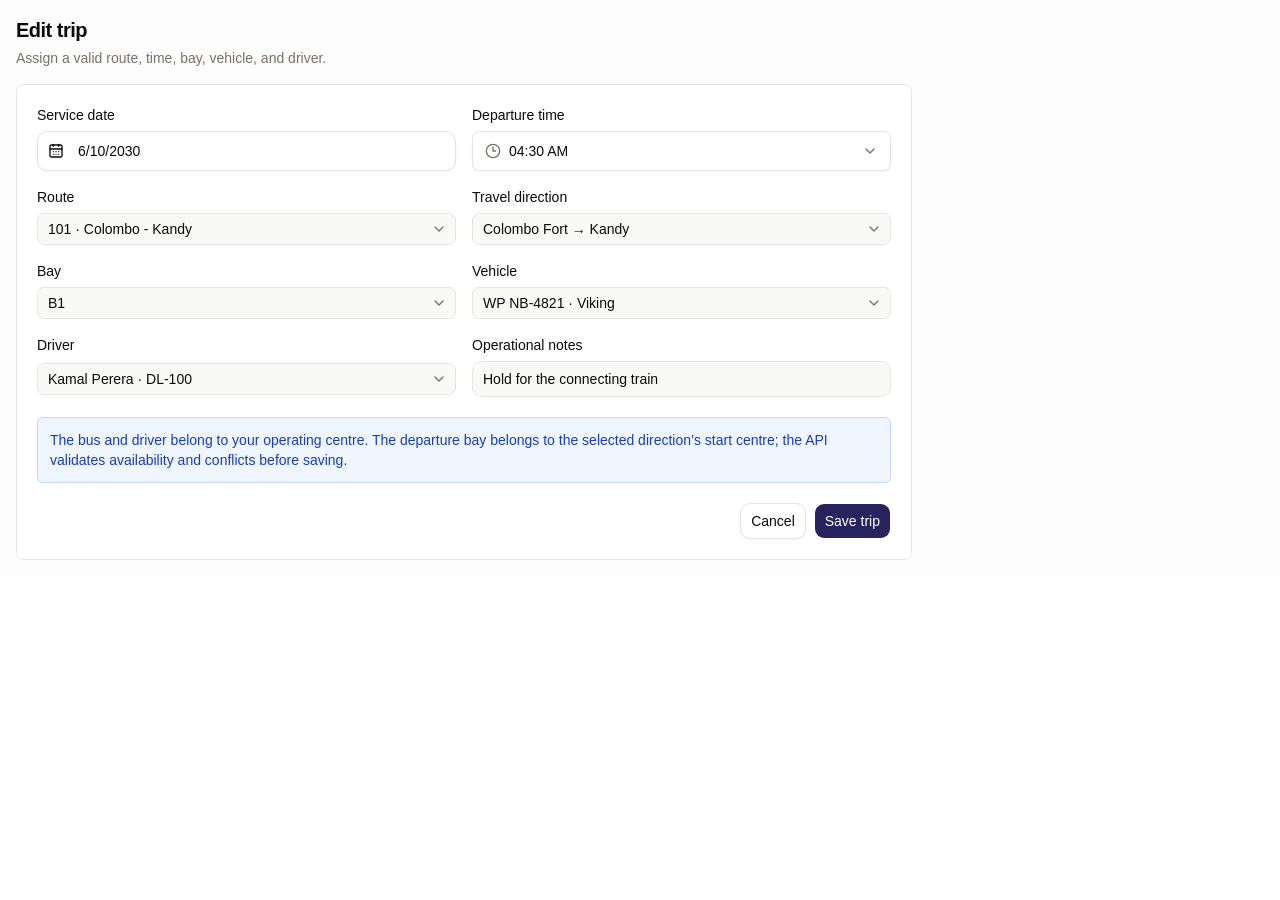
Test: TripFormPage: edit › shows the API message and stays on the form when the API refuses the change
The image size is (1280, 900).
Expected: the heading "Edit trip" is shown, [16, 19, 87, 41]
Step 1. Click the button "Save trip" → (852, 521), box [814, 503, 891, 539]
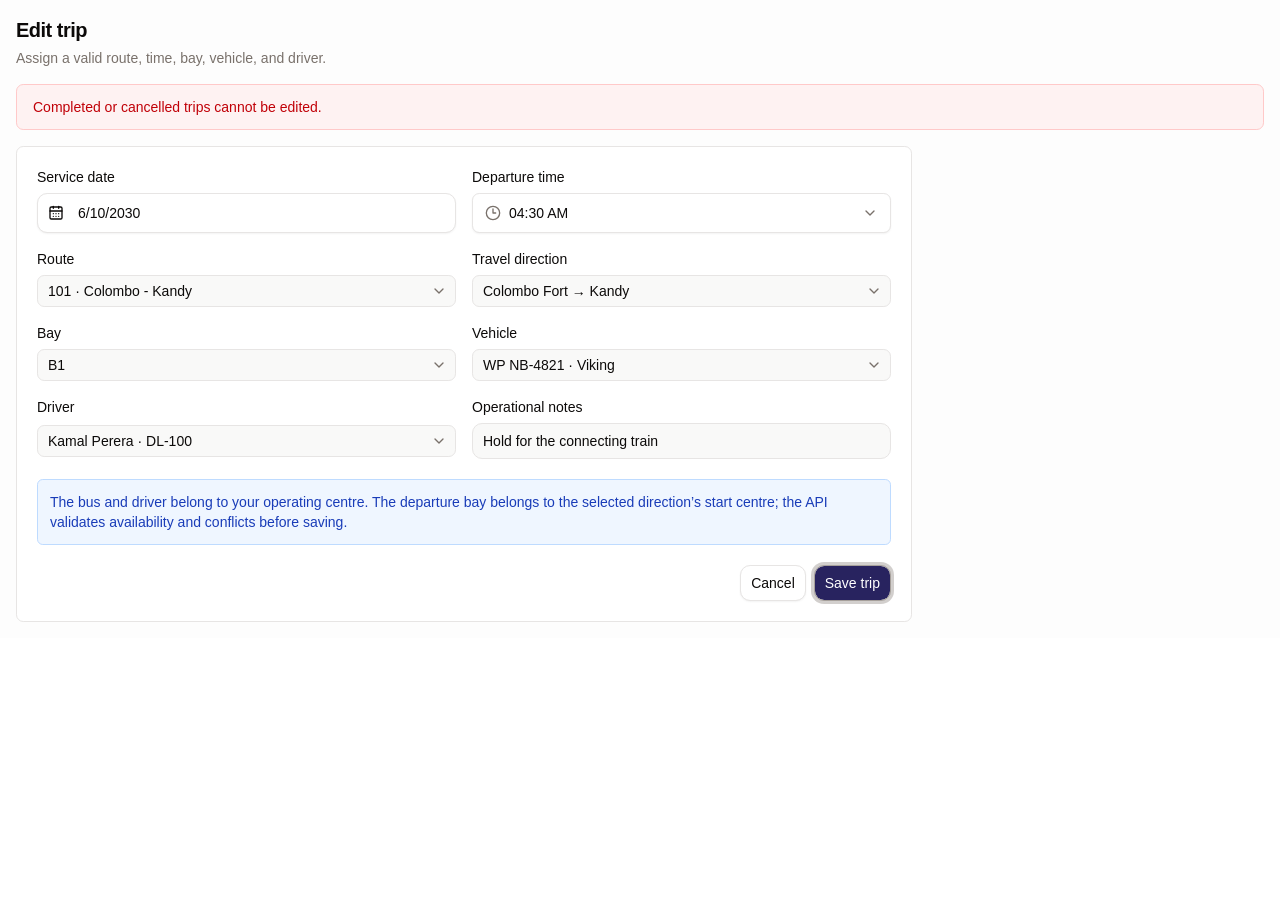
Expected: the button "Save trip" is enabled, [814, 565, 891, 601]
Expected: the text "Completed or cancelled trips cannot be edited." is shown, [16, 84, 1264, 130]
